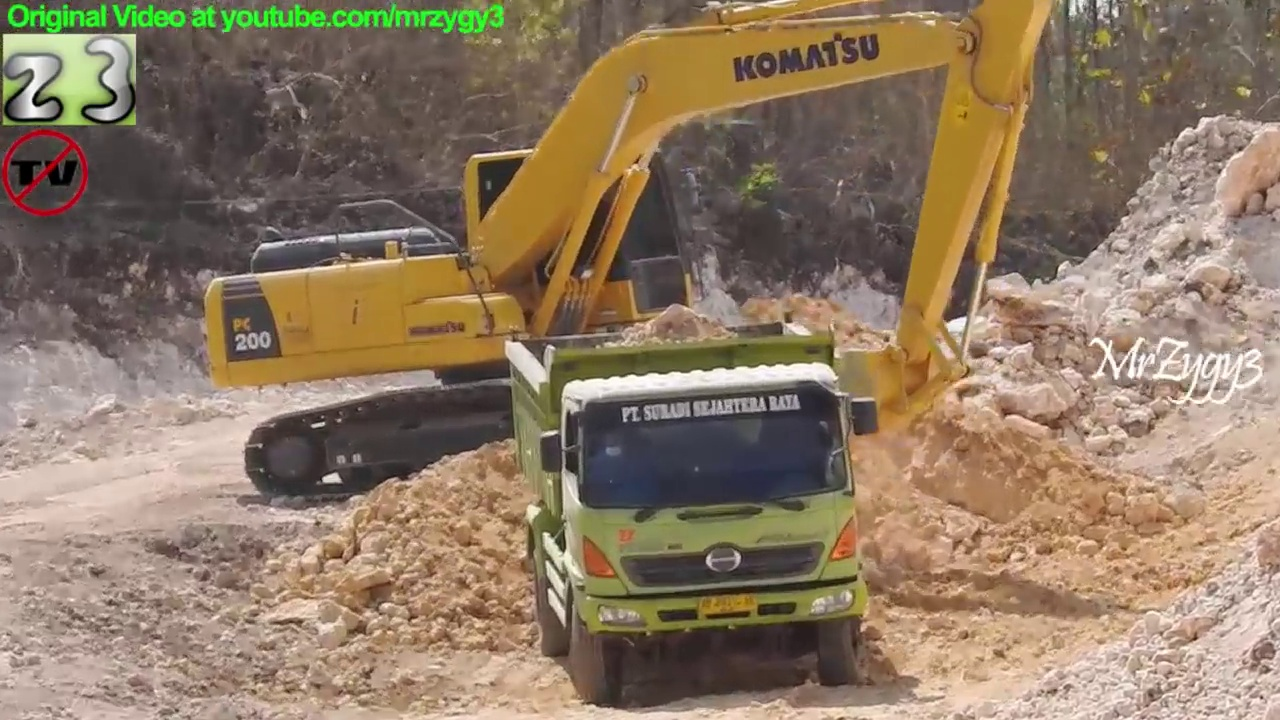excavator: (195, 1, 1067, 510)
truck: (500, 306, 888, 706)
